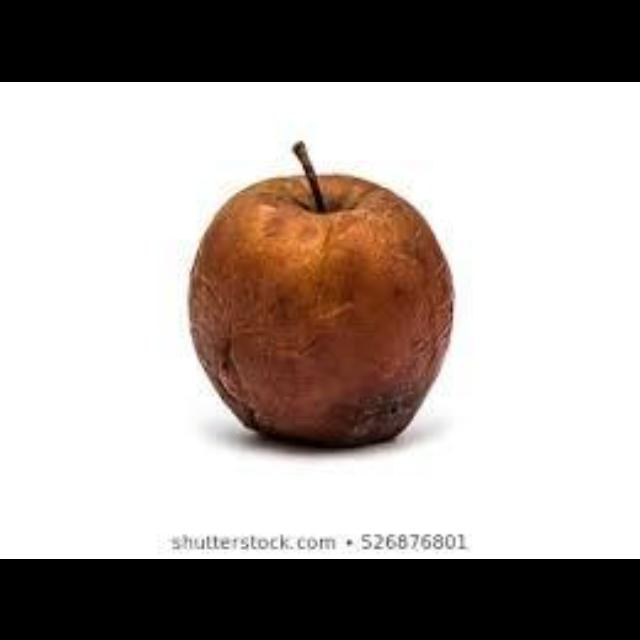apple: (187, 140, 450, 445)
rotten: (187, 140, 450, 445)
